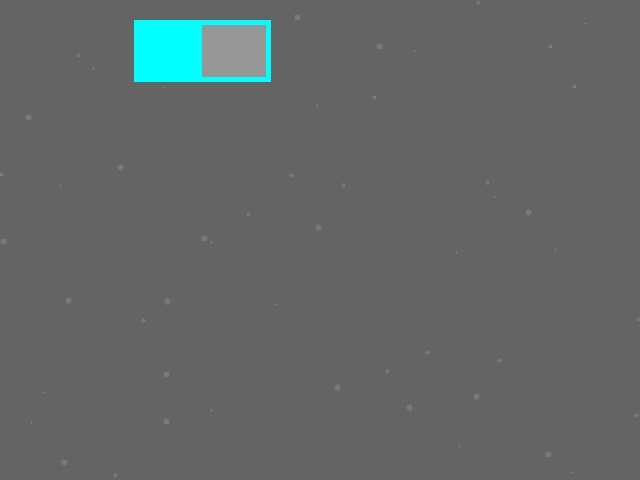truck: (134, 20, 270, 81)
